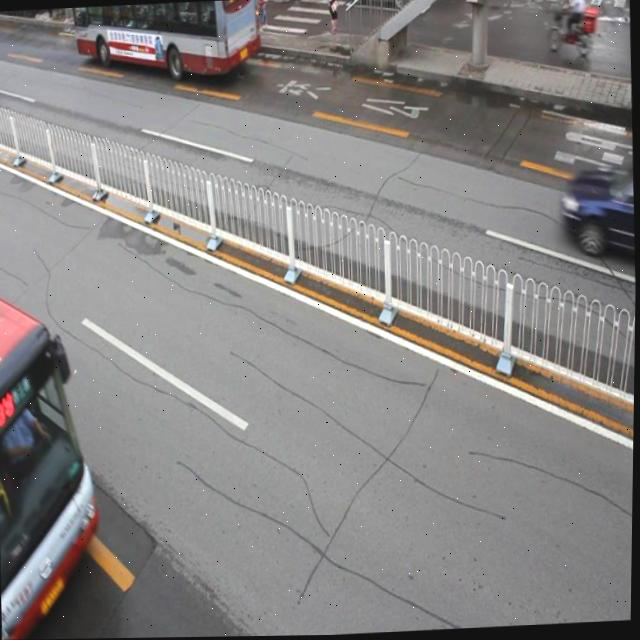car: (563, 152, 637, 265)
van: (0, 276, 108, 640), (70, 0, 260, 85)
